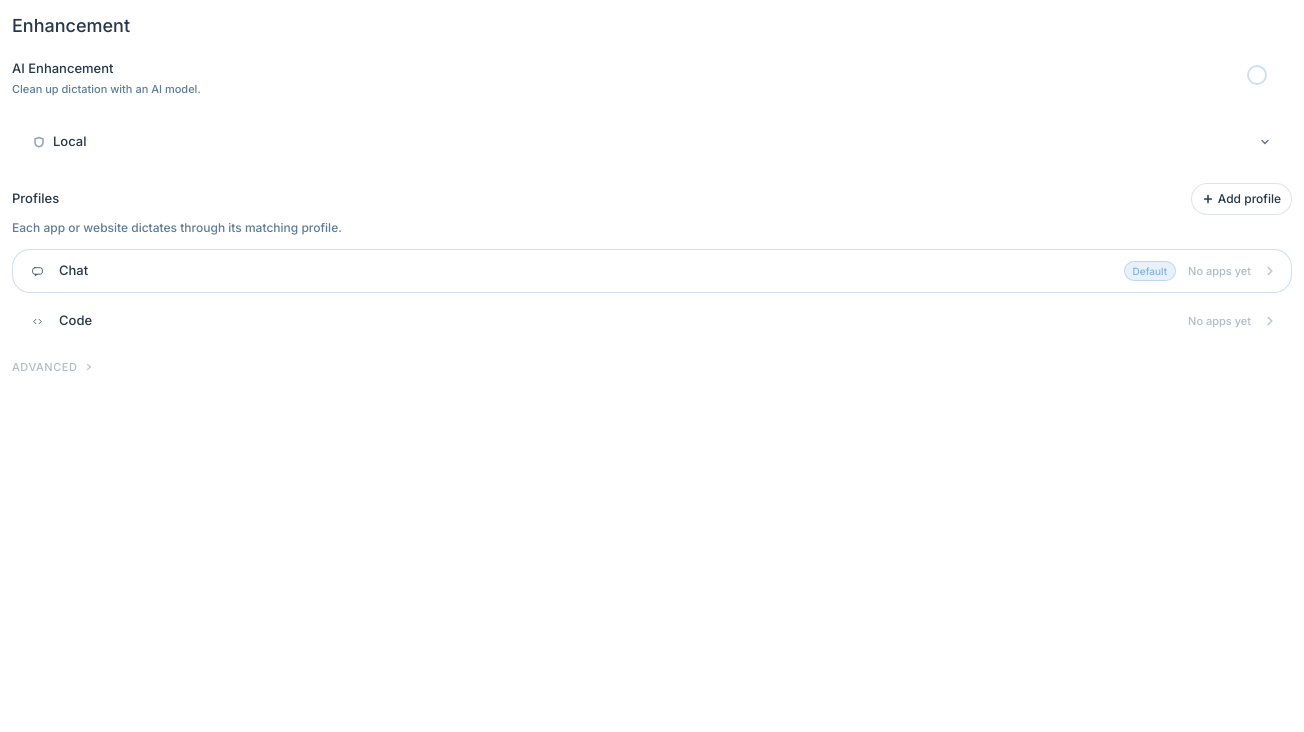
Enhancement - development candidate model selector › does not offer the managed speed recheck for a development candidate
This screenshot has width=1304, height=732.
Step 1. Click the button "Local" → click(70, 141), box [13,118,1291,166]
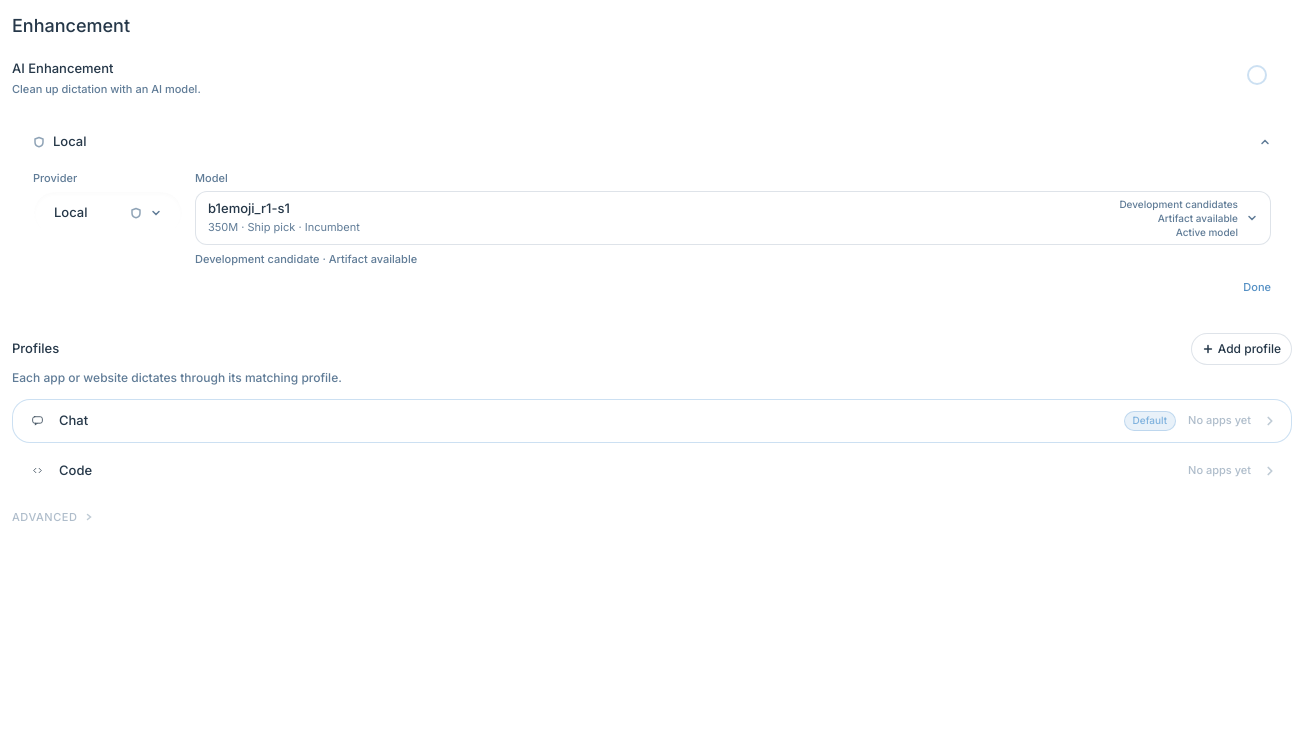
Expected: the text "Development candidate · Artifact available" is shown, [195,252,417,266]
